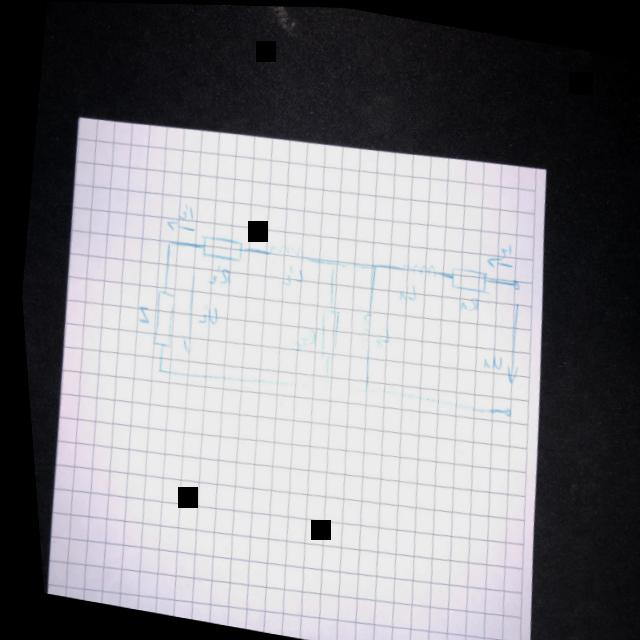inductor: (350, 310, 373, 361), (262, 241, 301, 263), (397, 258, 434, 278)
junction: (366, 260, 376, 271), (162, 238, 172, 249), (326, 256, 335, 268), (357, 382, 366, 393), (315, 382, 324, 393), (150, 364, 159, 375)
resistor: (144, 289, 176, 349), (311, 305, 339, 359), (195, 232, 242, 262), (444, 263, 486, 293)
terminal: (506, 277, 517, 288), (495, 405, 507, 414)
text: (287, 325, 313, 354), (203, 262, 230, 287), (276, 262, 301, 287), (191, 302, 216, 327), (393, 281, 415, 301), (477, 349, 499, 369), (173, 201, 194, 221), (455, 293, 477, 312), (369, 323, 386, 347), (494, 239, 511, 259), (132, 304, 147, 324)
